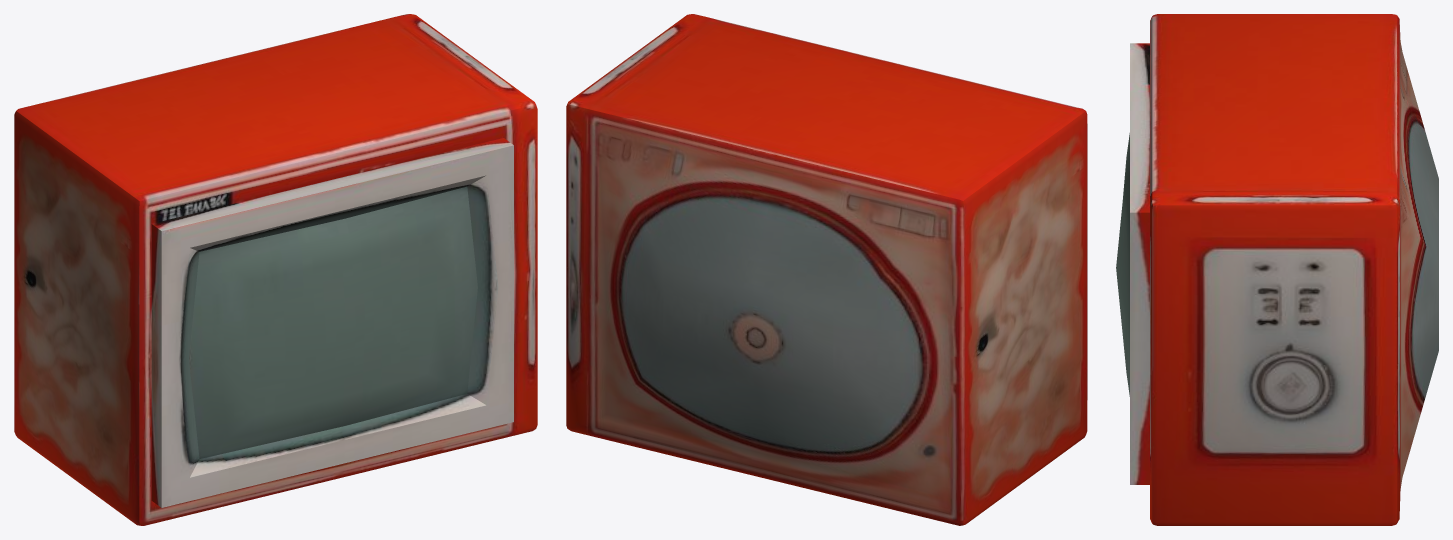
File: Televisor_Rojo.fbx
3 views of the same model, side by side, from view 1: azimuth 30°, elevation 25°; view 2: azimuth 150°, elevation 25°; view 3: azimuth 270°, elevation 25° (orthographic).
Visible parts, largest first — view 1: TV_Low; view 2: TV_Low; view 3: TV_Low.
Part boxes in pixels (x1,y1,x2,y2): TV_Low: [14, 14, 537, 525]; TV_Low: [566, 14, 1087, 525]; TV_Low: [1116, 14, 1438, 525].
Size of the model in its own units: 82.86 by 65 by 58.56.
